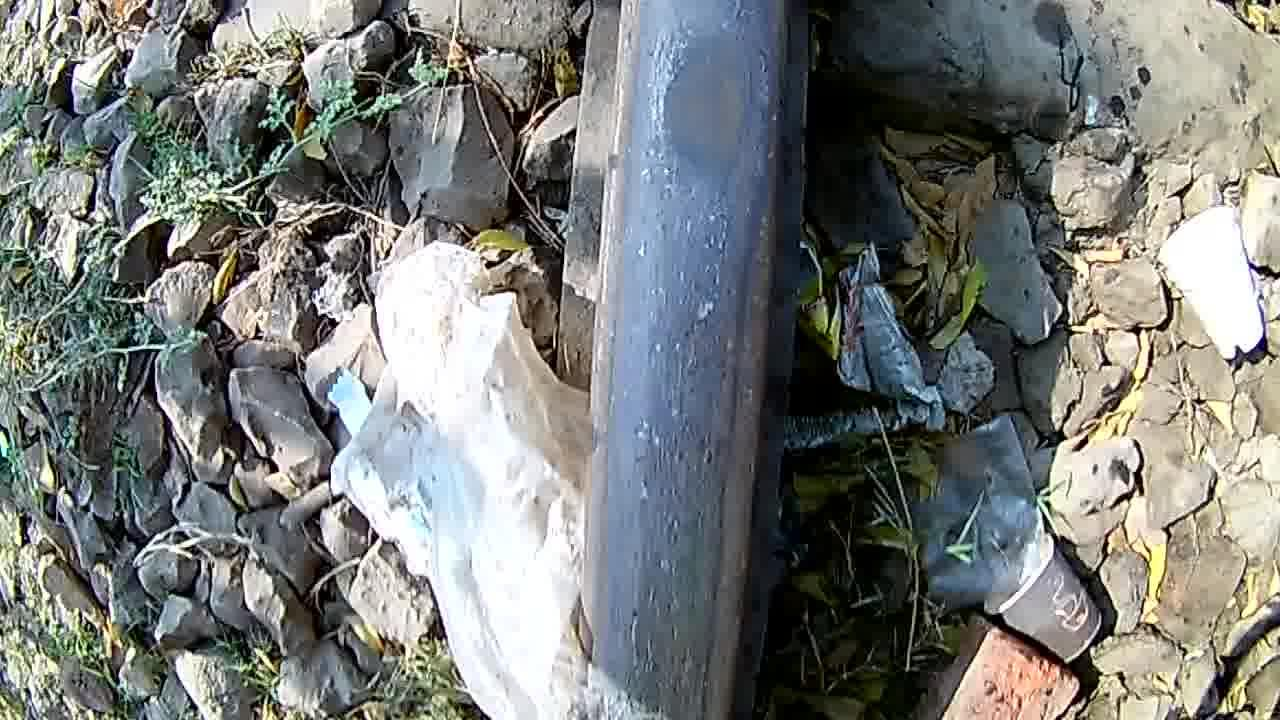bolt_missing: (620, 3, 794, 283)
